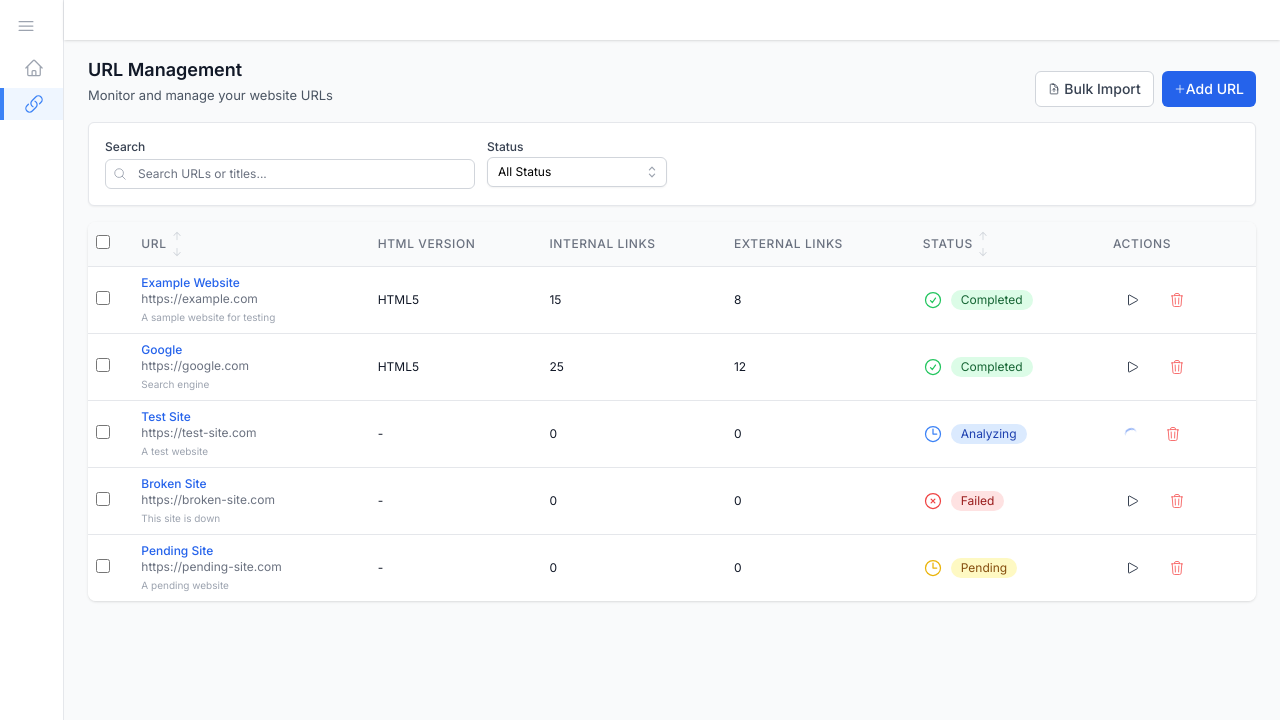
Test: URL Management - Delete URL › should show delete confirmation dialog when clicking delete button
Expected: the table with test id "url-table" is shown, [88,222,1256,601]
Click the button with test id "delete-url-button" at (1177, 300), box [1157,282,1197,318]
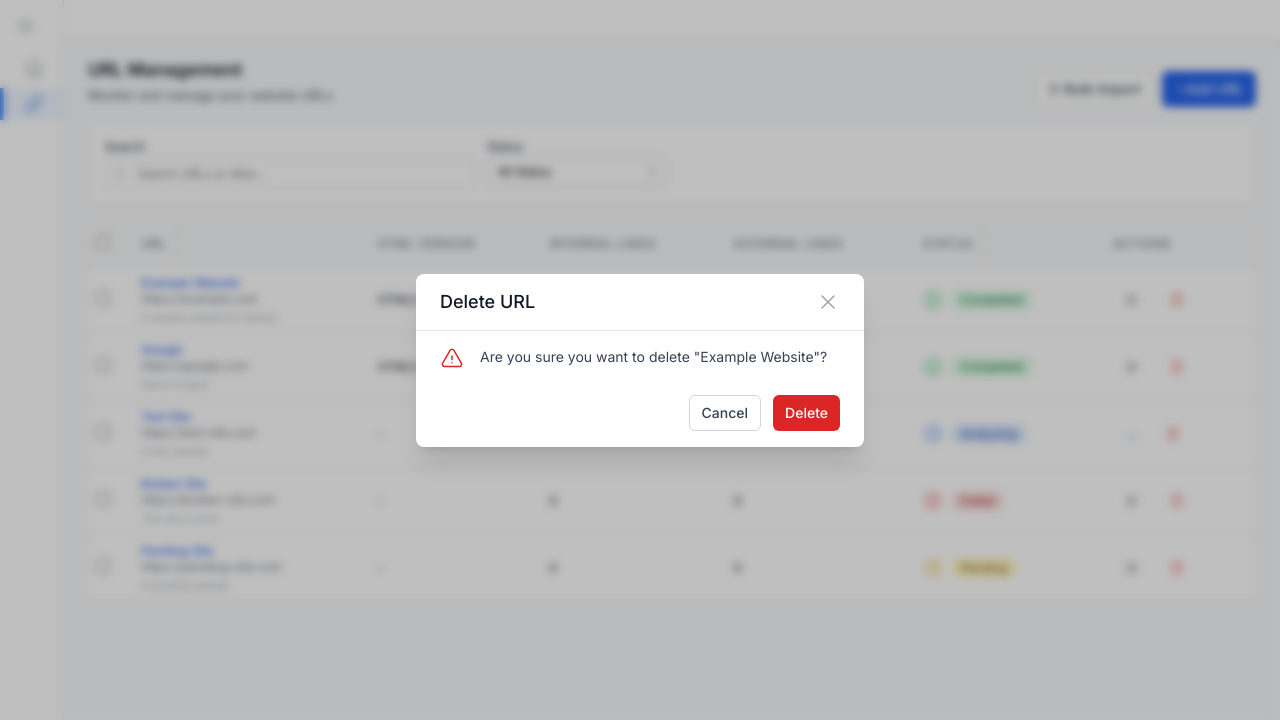
Result: the element with test id "confirmation-dialog" is shown at [416,274,864,447]
Result: the button with test id "cancel-button" is shown at [689,395,762,431]
Result: the button with test id "confirm-button" is shown at [773,395,840,431]
